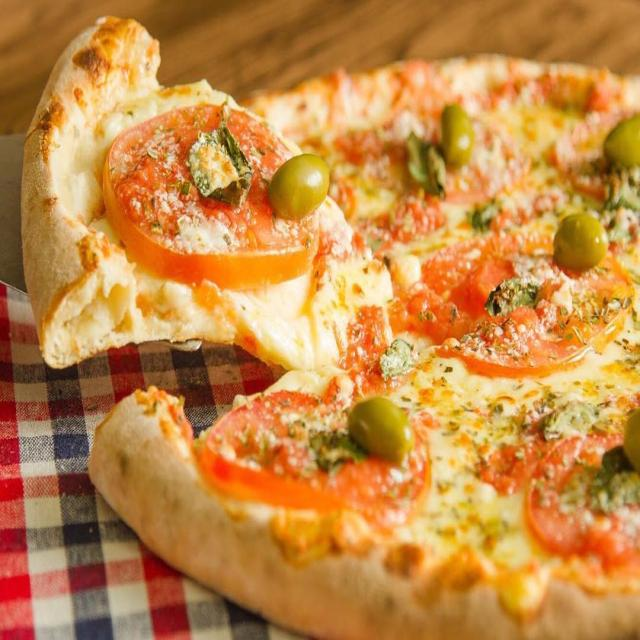basil: (188, 103, 252, 207), (591, 447, 640, 513), (406, 132, 446, 198), (485, 278, 541, 315), (471, 201, 499, 230)
green_olives: (349, 396, 414, 464), (267, 156, 330, 219), (554, 214, 609, 271), (441, 103, 474, 166), (604, 115, 640, 168), (624, 408, 640, 473)
pizza: (22, 19, 640, 636)
tomatoes: (104, 103, 318, 288), (196, 376, 430, 532), (390, 232, 634, 374), (526, 436, 640, 570)
